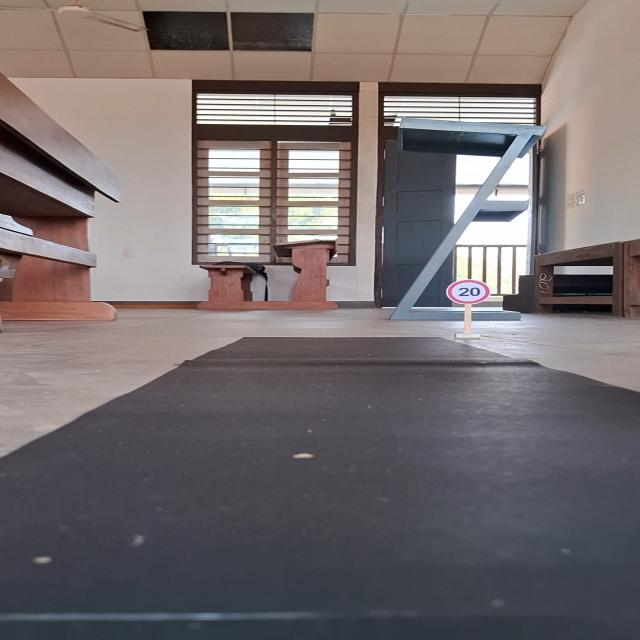Speed20: (443, 277, 495, 306)
